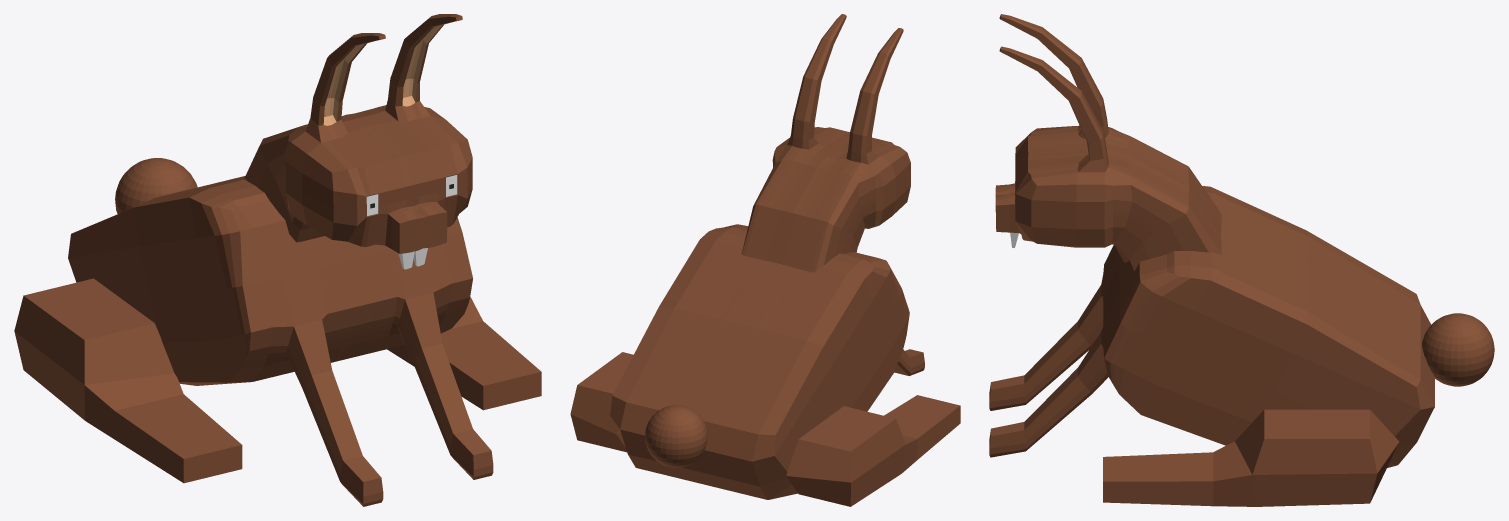
Rendered from lapin.fbx.
3 views of the same model, side by side, from view 1: azimuth 30°, elevation 25°; view 2: azimuth 150°, elevation 25°; view 3: azimuth 270°, elevation 25° (orthographic). The views are drawn at different scales.
Visible parts, largest first — view 1: Cube.001, Cube, Cube.002, Sphere; view 2: Cube.001, Cube, Cube.002, Sphere; view 3: Cube.001, Cube, Cube.002, Sphere.
Boxes of the visible parts, bbox=[...] form: Cube.001: bbox=[68, 176, 493, 506]; Cube: bbox=[244, 14, 472, 269]; Cube.002: bbox=[14, 278, 541, 483]; Sphere: bbox=[115, 158, 197, 213]; Cube.001: bbox=[610, 224, 924, 499]; Cube: bbox=[741, 14, 910, 272]; Cube.002: bbox=[570, 352, 960, 506]; Sphere: bbox=[645, 405, 707, 467]; Cube.001: bbox=[989, 186, 1434, 467]; Cube: bbox=[995, 14, 1221, 275]; Cube.002: bbox=[1103, 409, 1399, 506]; Sphere: bbox=[1422, 313, 1494, 386].
Bounding box in the file's own units: 616 × 709 × 814.
